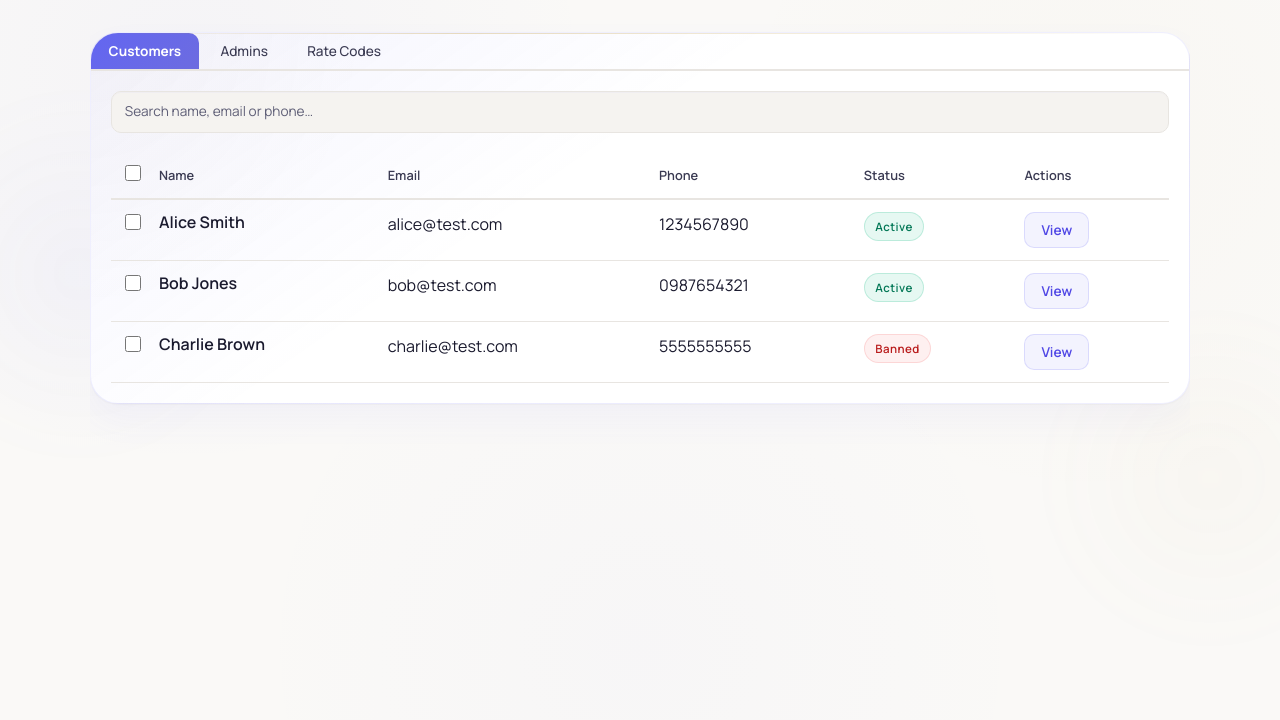
Test case: AdminUsersConfig Page › opens detail modal on View button click
Expected: the text "Alice Smith" is shown, [159,211,245,233]
Step 1. Click the button "View" in the row of "Smith" → point(1057, 230), box [1024,212,1089,248]
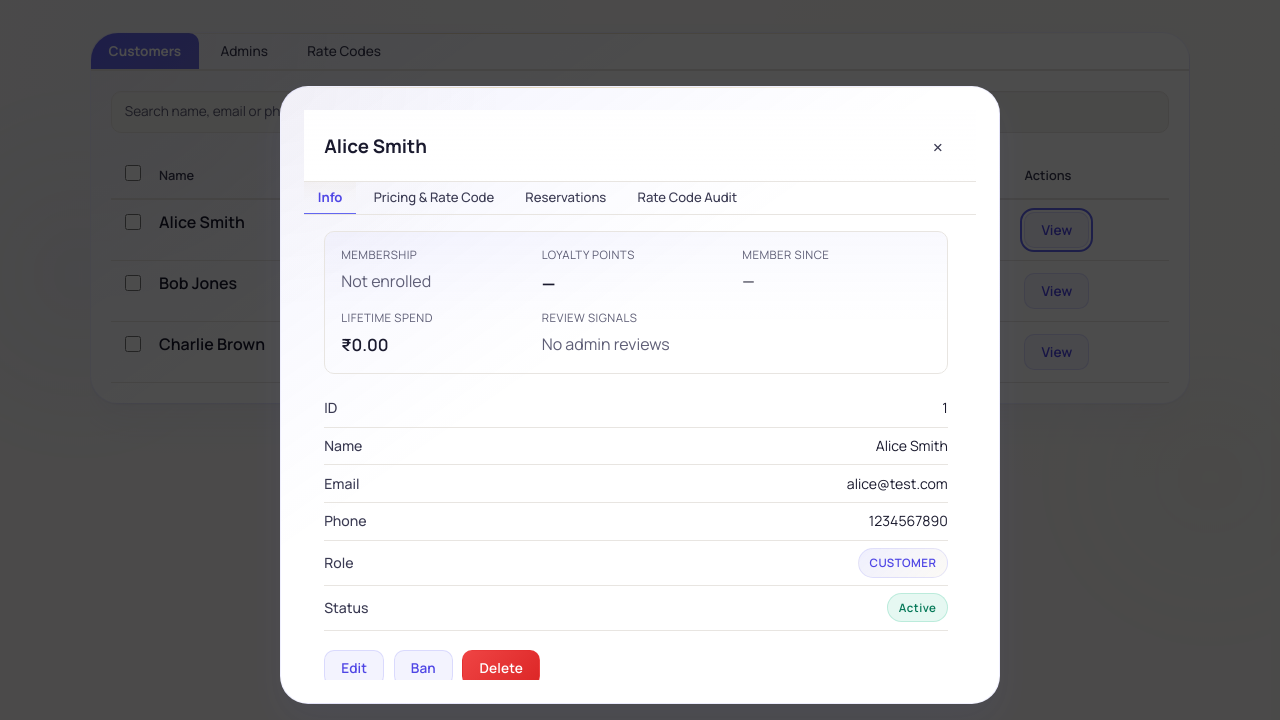
Now the element with class "auc-detail-modal" is shown, box [280,86,1000,704]
Now the heading "Alice Smith" is shown, box [324,133,427,159]
